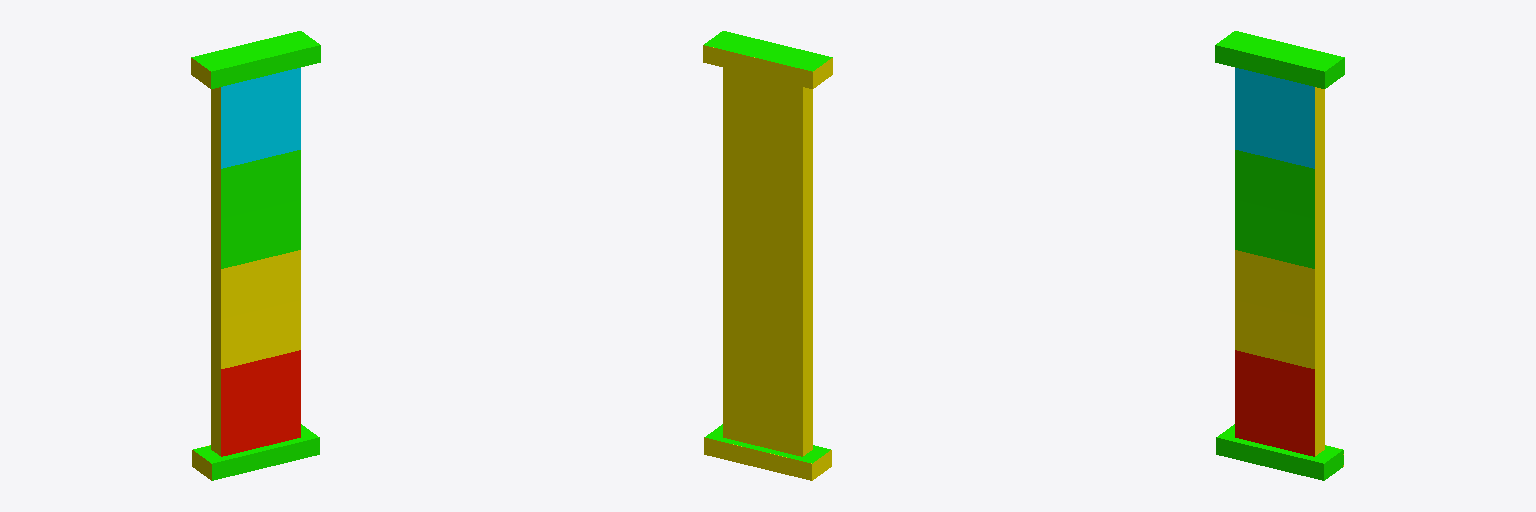
3 renders of one model, left to right at view 1: azimuth 30°, elevation 25°; view 2: azimuth 150°, elevation 25°; view 3: azimuth 330°, elevation 25°, orthographic.
Parts seen in each view (by area): view 1: 立方体.002; view 2: 立方体.002; view 3: 立方体.002.
Part boxes in pixels (x1,y1,x2,y2): 立方体.002: (191, 31, 320, 480); 立方体.002: (703, 31, 832, 480); 立方体.002: (1215, 31, 1344, 480).
Size of the model in its own units: 1.01 by 3.6 by 0.3144.
Materials: 1 (1 with a texture image).